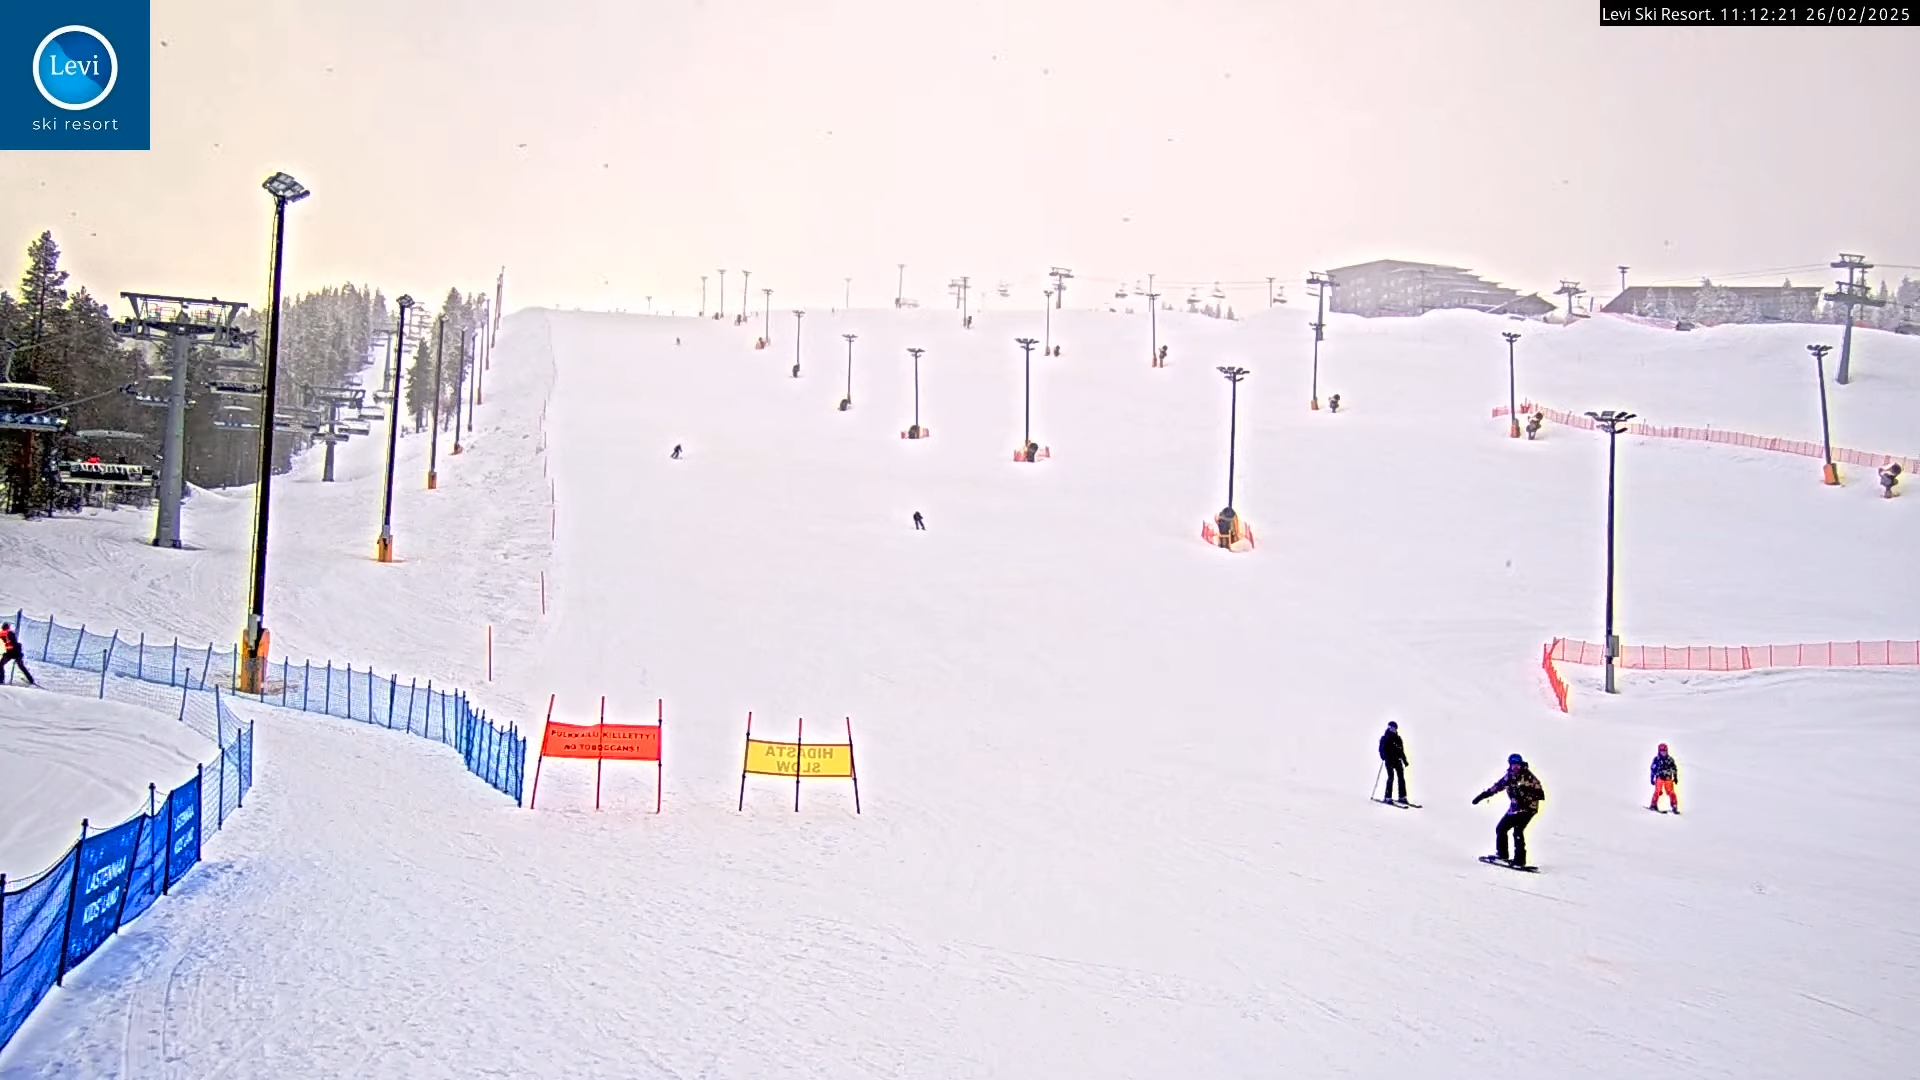skier: (1367, 715, 1427, 812), (1643, 742, 1688, 816)
snowboarder: (1466, 750, 1548, 876)
